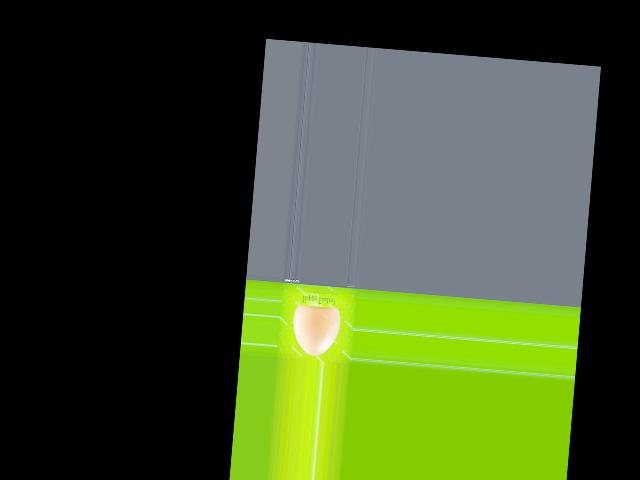egg: (291, 304, 341, 357)
